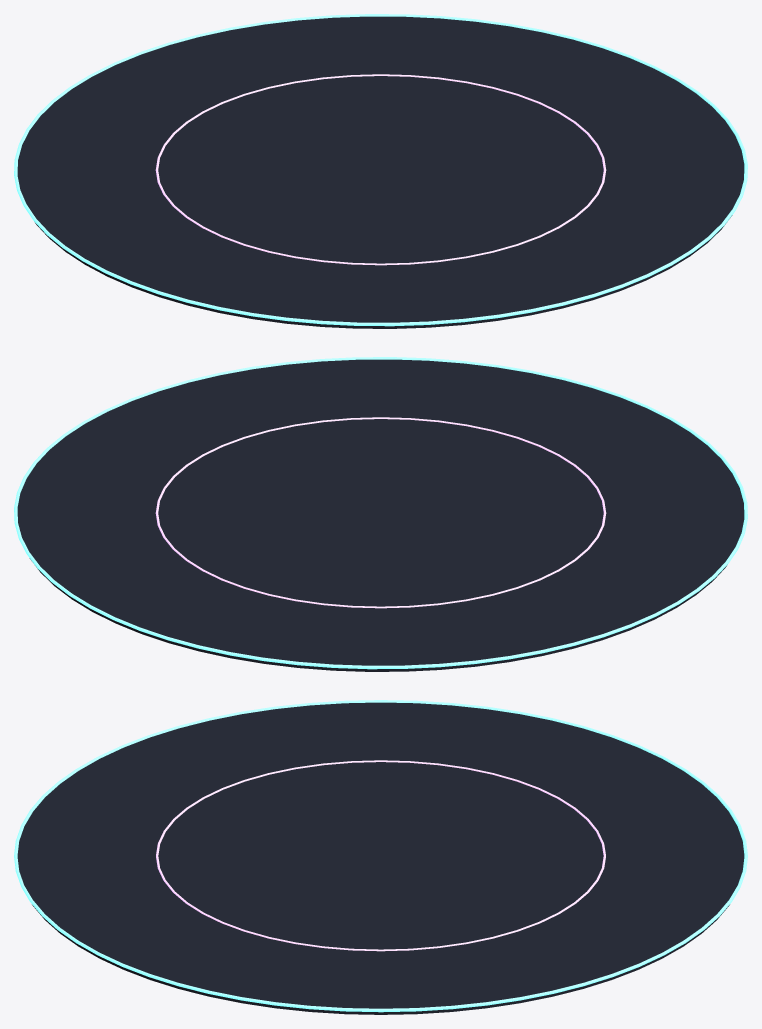
File: hero-ai-dashboard.glb
3 views of the same model, one above another, from view 1: azimuth 30°, elevation 25°; view 2: azimuth 150°, elevation 25°; view 3: azimuth 270°, elevation 25° (orthographic).
Visible parts, largest first — view 1: Floor_Pedestal, Floor_Ring_Cyan, Floor_Ring_Purple; view 2: Floor_Pedestal, Floor_Ring_Cyan, Floor_Ring_Purple; view 3: Floor_Pedestal, Floor_Ring_Cyan, Floor_Ring_Purple.
Boxes of the visible parts, x1=… form: Floor_Pedestal: x1=17, y1=16, x2=744, y2=328; Floor_Ring_Cyan: x1=14, y1=14, x2=747, y2=326; Floor_Ring_Purple: x1=155, y1=74, x2=606, y2=265; Floor_Pedestal: x1=17, y1=359, x2=744, y2=671; Floor_Ring_Cyan: x1=14, y1=357, x2=747, y2=669; Floor_Ring_Purple: x1=155, y1=417, x2=606, y2=608; Floor_Pedestal: x1=17, y1=702, x2=744, y2=1014; Floor_Ring_Cyan: x1=14, y1=700, x2=747, y2=1012; Floor_Ring_Purple: x1=156, y1=760, x2=605, y2=951.
Size of what is drawn, in the model's own units: 10.49 by 0.1038 by 10.49.
